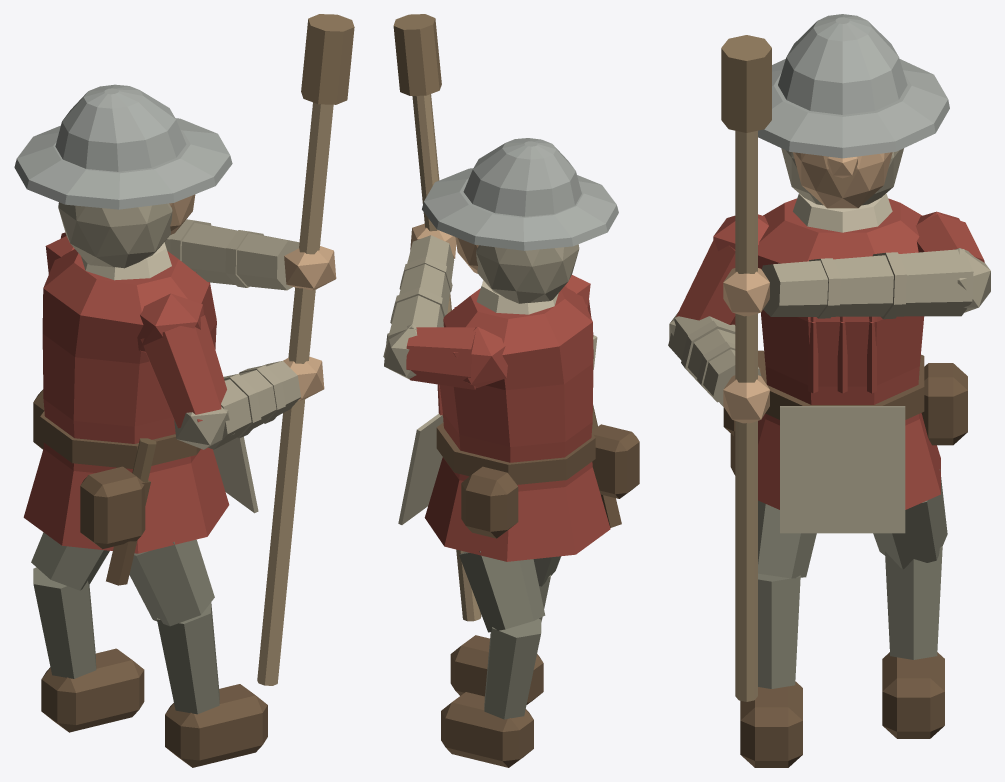
File: artillery_gunner.glb
3 renders of one model, left to right at view 1: azimuth 30°, elevation 25°; view 2: azimuth 150°, elevation 25°; view 3: azimuth 270°, elevation 25°, orthographic. The views are drawn at different scales.
Visible parts, largest first — view 1: artillery_gunner_team_cloth, artillery_gunner_leather, artillery_gunner_padded_linen, artillery_gunner_steel, artillery_gunner_hose, artillery_gunner_oak_light, artillery_gunner_oak, artillery_gunner_skin, artillery_gunner_linen, artillery_gunner_oak_dark; view 2: artillery_gunner_team_cloth, artillery_gunner_leather, artillery_gunner_steel, artillery_gunner_padded_linen, artillery_gunner_hose, artillery_gunner_oak, artillery_gunner_oak_light, artillery_gunner_linen, artillery_gunner_skin; view 3: artillery_gunner_padded_linen, artillery_gunner_team_cloth, artillery_gunner_steel, artillery_gunner_hose, artillery_gunner_leather, artillery_gunner_oak_light, artillery_gunner_skin, artillery_gunner_oak, artillery_gunner_linen.
Boxes of the visible parts, bbox=[...] form: artillery_gunner_team_cloth: bbox=[23, 232, 229, 553]; artillery_gunner_leather: bbox=[33, 389, 267, 767]; artillery_gunner_padded_linen: bbox=[58, 202, 300, 513]; artillery_gunner_steel: bbox=[14, 84, 232, 209]; artillery_gunner_hose: bbox=[31, 532, 219, 714]; artillery_gunner_oak_light: bbox=[257, 102, 333, 685]; artillery_gunner_oak: bbox=[301, 14, 354, 104]; artillery_gunner_skin: bbox=[169, 194, 336, 400]; artillery_gunner_linen: bbox=[81, 242, 171, 280]; artillery_gunner_oak_dark: bbox=[132, 438, 156, 482]; artillery_gunner_team_cloth: bbox=[406, 275, 610, 561]; artillery_gunner_leather: bbox=[436, 422, 639, 767]; artillery_gunner_steel: bbox=[422, 138, 618, 250]; artillery_gunner_padded_linen: bbox=[383, 235, 597, 524]; artillery_gunner_hose: bbox=[459, 551, 560, 719]; artillery_gunner_oak: bbox=[393, 14, 441, 95]; artillery_gunner_oak_light: bbox=[412, 94, 481, 621]; artillery_gunner_linen: bbox=[476, 280, 558, 314]; artillery_gunner_skin: bbox=[410, 223, 478, 273]; artillery_gunner_padded_linen: bbox=[668, 148, 990, 533]; artillery_gunner_team_cloth: bbox=[676, 198, 984, 509]; artillery_gunner_steel: bbox=[758, 14, 949, 158]; artillery_gunner_hose: bbox=[758, 469, 947, 688]; artillery_gunner_leather: bbox=[723, 350, 967, 767]; artillery_gunner_oak_light: bbox=[735, 130, 757, 701]; artillery_gunner_skin: bbox=[723, 152, 892, 423]; artillery_gunner_oak: bbox=[721, 35, 771, 132]; artillery_gunner_linen: bbox=[793, 193, 892, 232].
Bounding box in the file's own units: 0.8193 × 2.01 × 0.7729.
